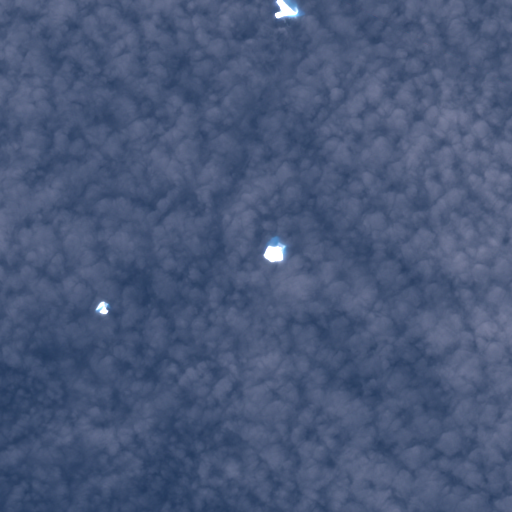Iceberg: (263, 242, 286, 262), (274, 0, 297, 17), (96, 301, 108, 313)
